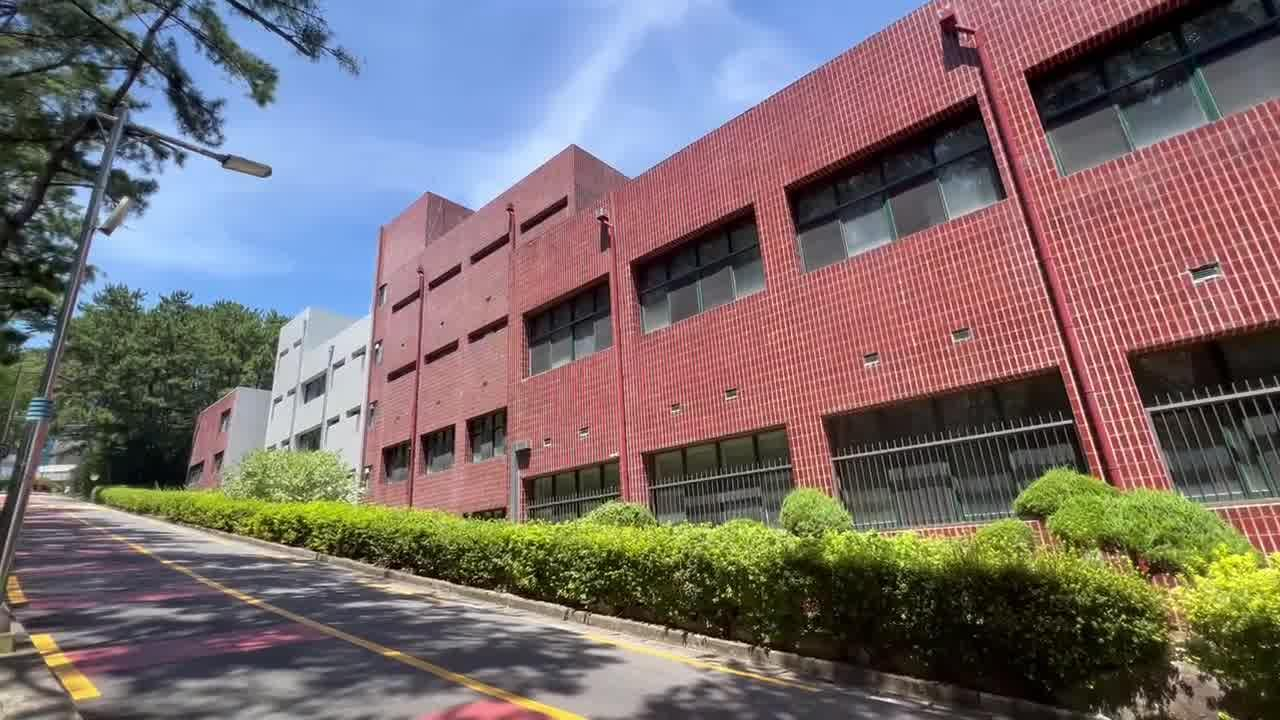building: (283, 56, 1267, 450)
